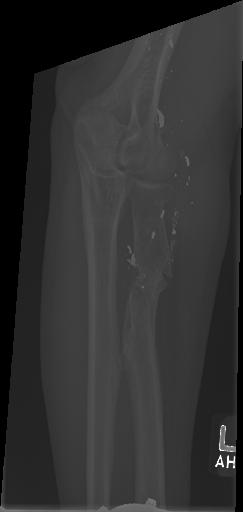elbow positive: (118, 222, 182, 332)
